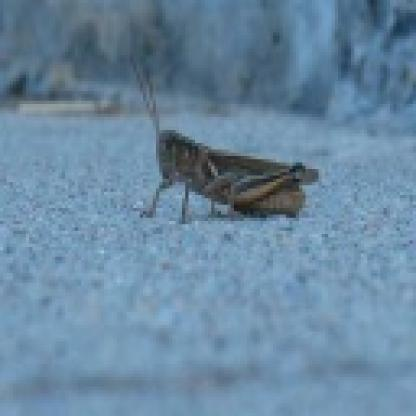grasshopper: (135, 94, 317, 230)
